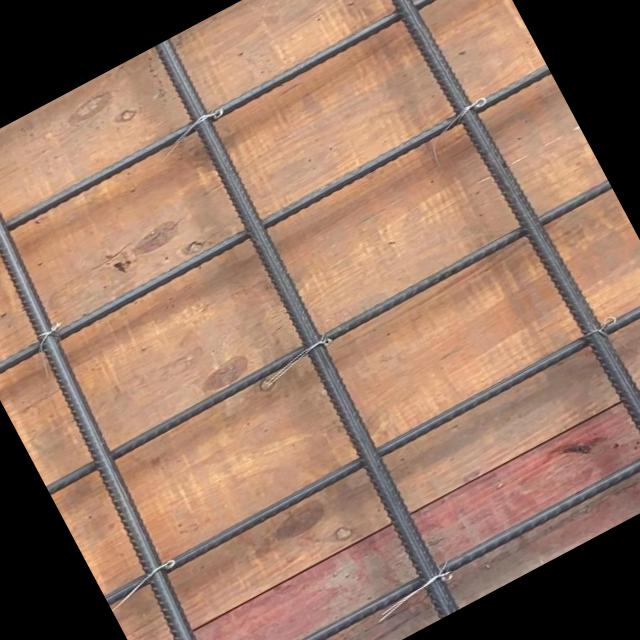ribbed bar: (136, 36, 472, 620), (41, 178, 614, 495), (0, 62, 554, 381), (101, 289, 640, 606), (353, 0, 640, 504), (0, 0, 496, 272), (0, 144, 269, 640), (164, 408, 640, 640)
